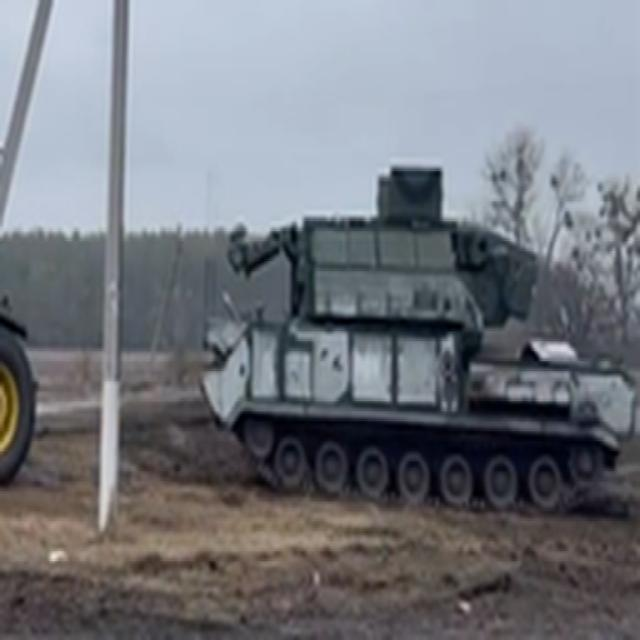MLRS: (196, 155, 629, 509)
